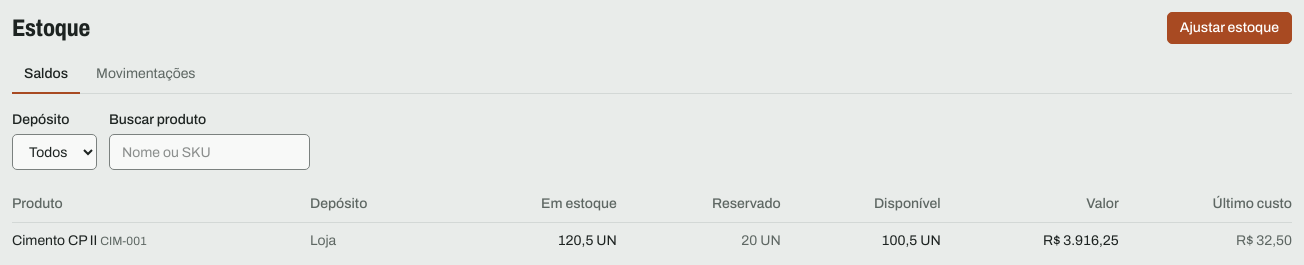
Test: StockScreen › tells a filtered empty list from an empty stock, and clears the filters
Check: the text "Cimento CP II" is shown, box [12,233,97,248]
In the search field labelled "Buscar produto": coordinates (210, 152) [109,134,310,170], type "zzz"
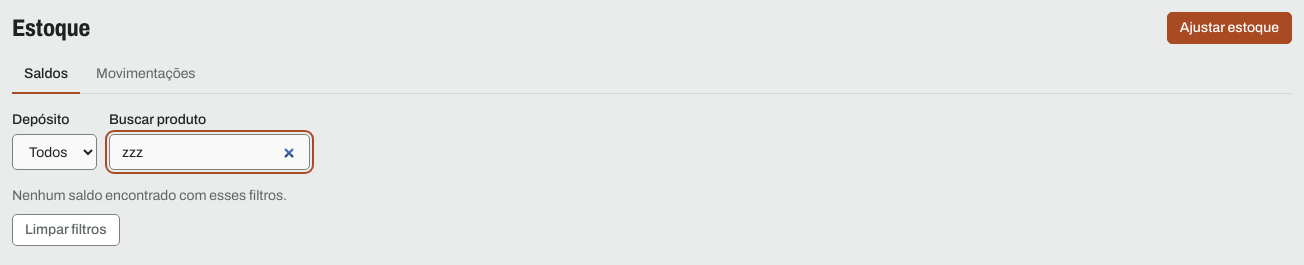
Check: the text "Nenhum saldo encontrado com esses filtros." is shown, box [12,188,287,203]
Click the button "Limpar filtros": coordinates (66, 230) [12,214,120,246]
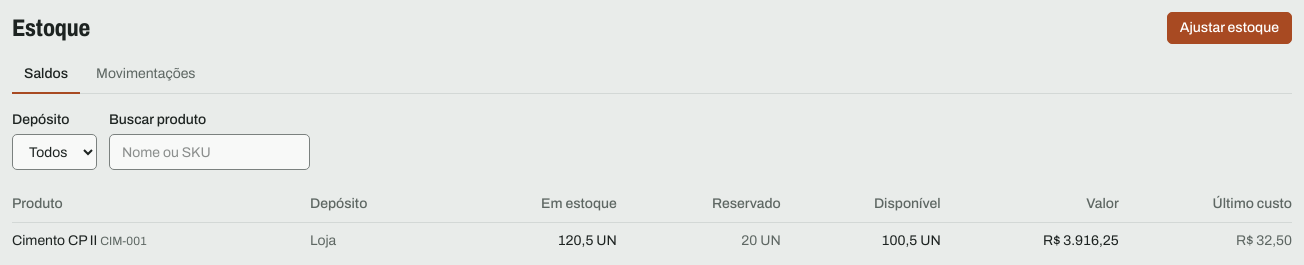
Check: the text "Cimento CP II" is shown, box [12,233,97,248]
Check: the search field labelled "Buscar produto" is empty, box [109,134,310,170]
